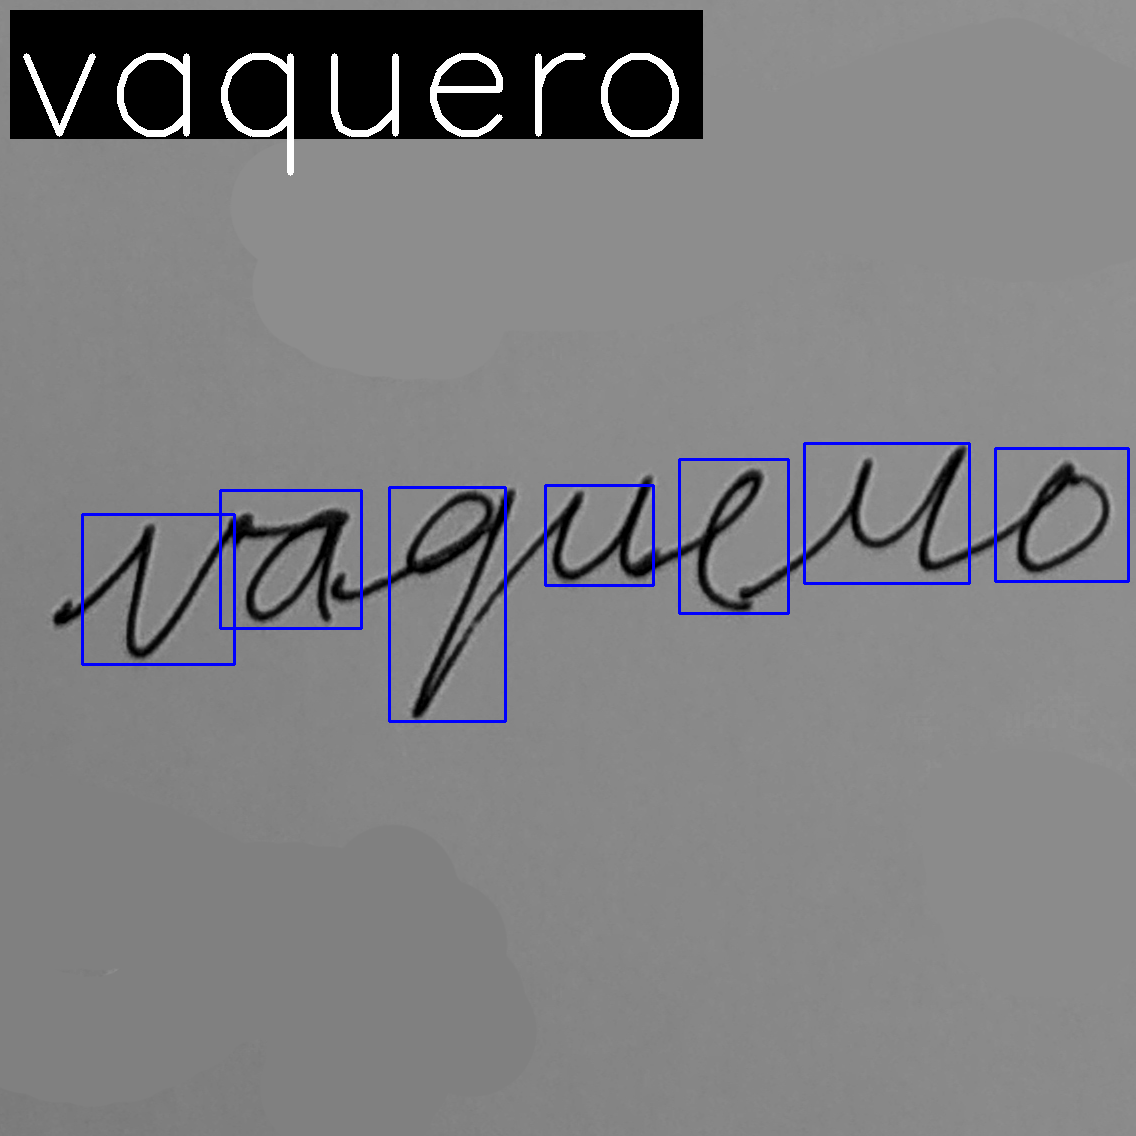a: (242, 506, 350, 629)
e: (693, 465, 783, 617)
o: (1012, 459, 1112, 578)
q: (401, 483, 518, 721)
r: (829, 442, 971, 578)
u: (547, 472, 656, 584)
v: (117, 510, 236, 662)
